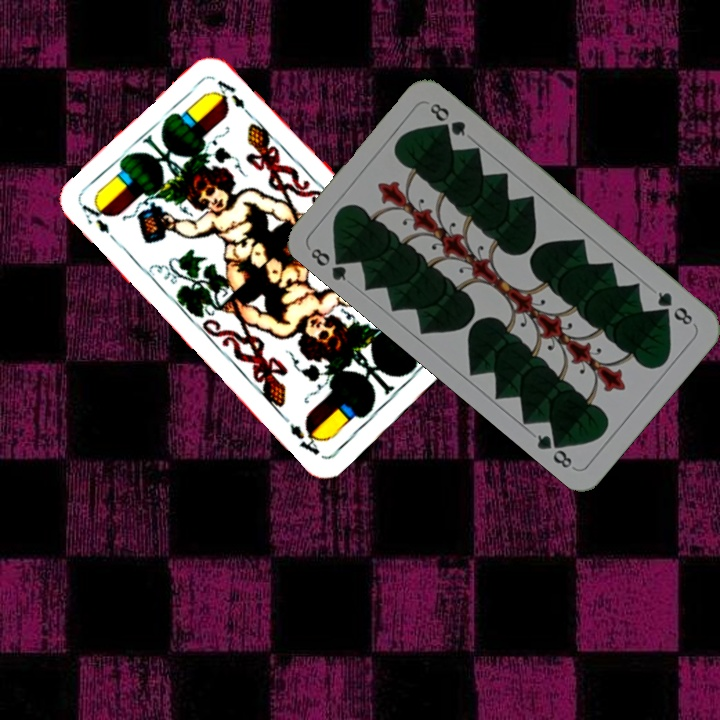EA: (77, 199, 123, 248)
G8: (306, 244, 352, 284), (653, 287, 696, 328)
